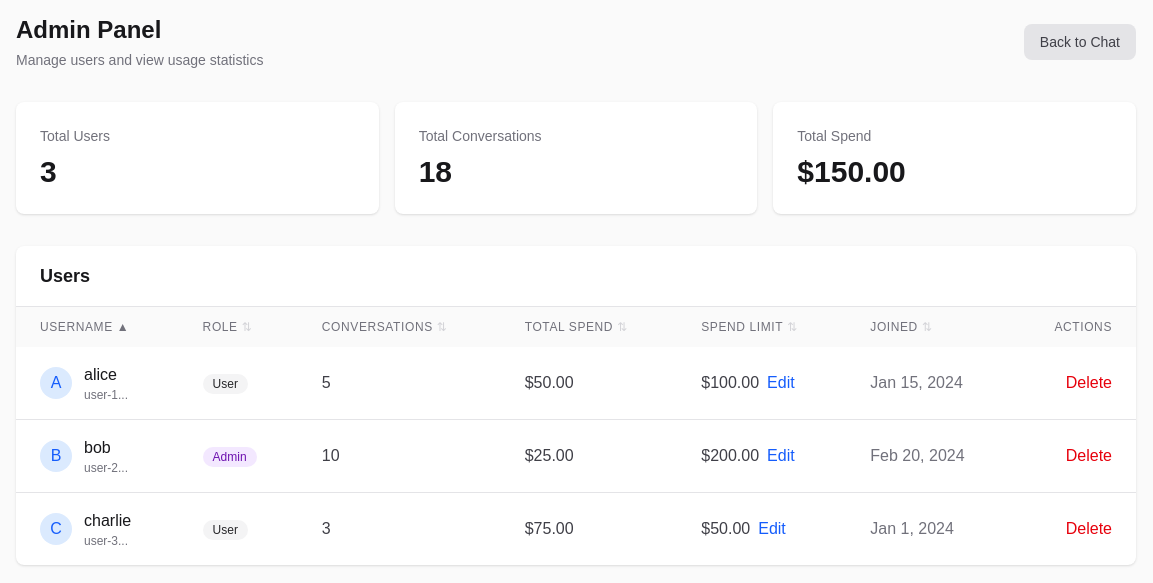
Scenario: AdminPage › Column Sorting › resets to ascending when switching to a new column
The width and height of the screenshot is (1153, 583).
Expected: the heading "Admin Panel" is shown, [16,16,161,43]
// Toggle username to descending
Click the column heading "Username ▲": (97, 327) [16,307,179,347]
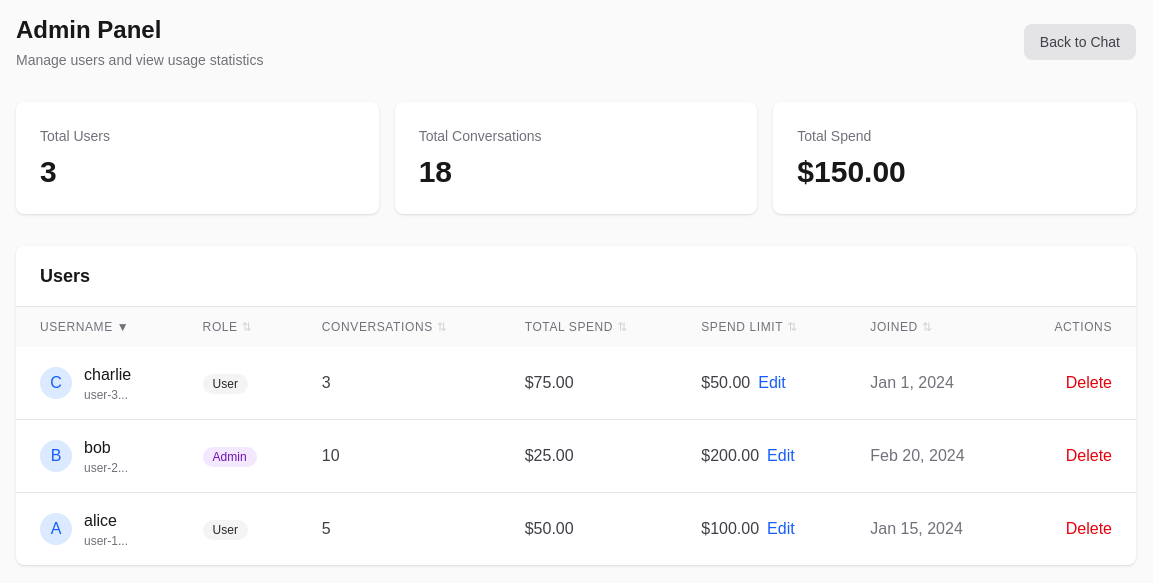
Expected: the column heading "Username ▼" is shown, [16,307,179,347]
// Switch to conversations - should reset to ascending
Click the column heading "Conversations ⇅": (399, 327) [298,307,501,347]
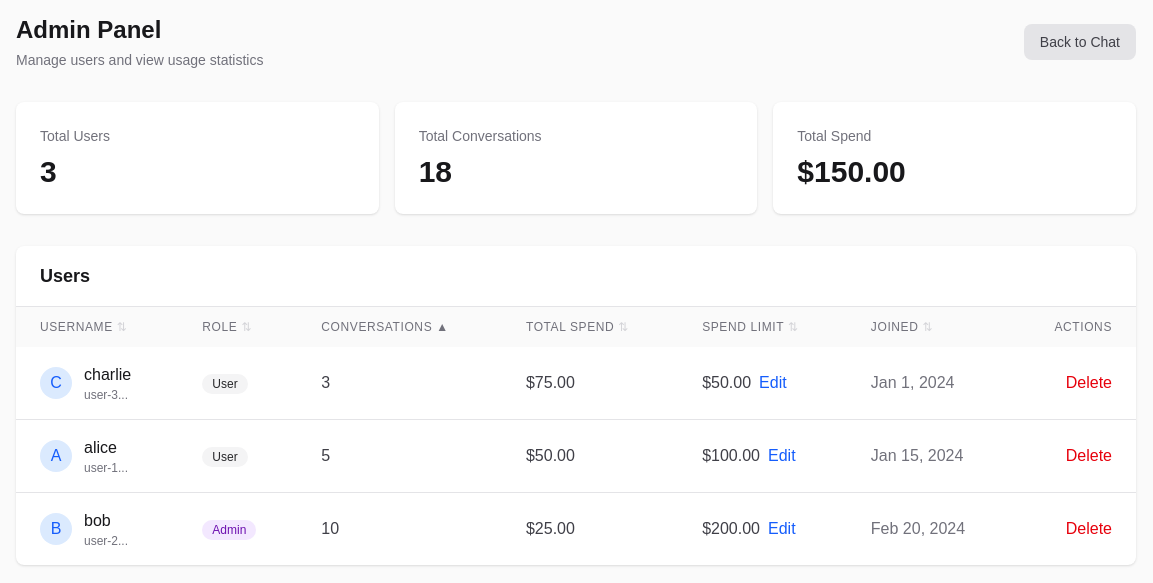
Expected: the column heading "Conversations ▲" is shown, [297,307,502,347]
Expected: the column heading "Username ⇅" is shown, [16,307,178,347]
